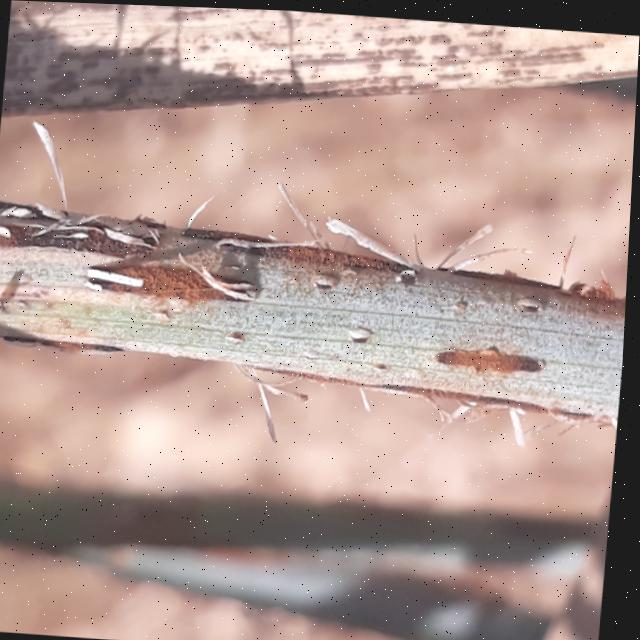black_stem_rust: (0, 0, 640, 512)
